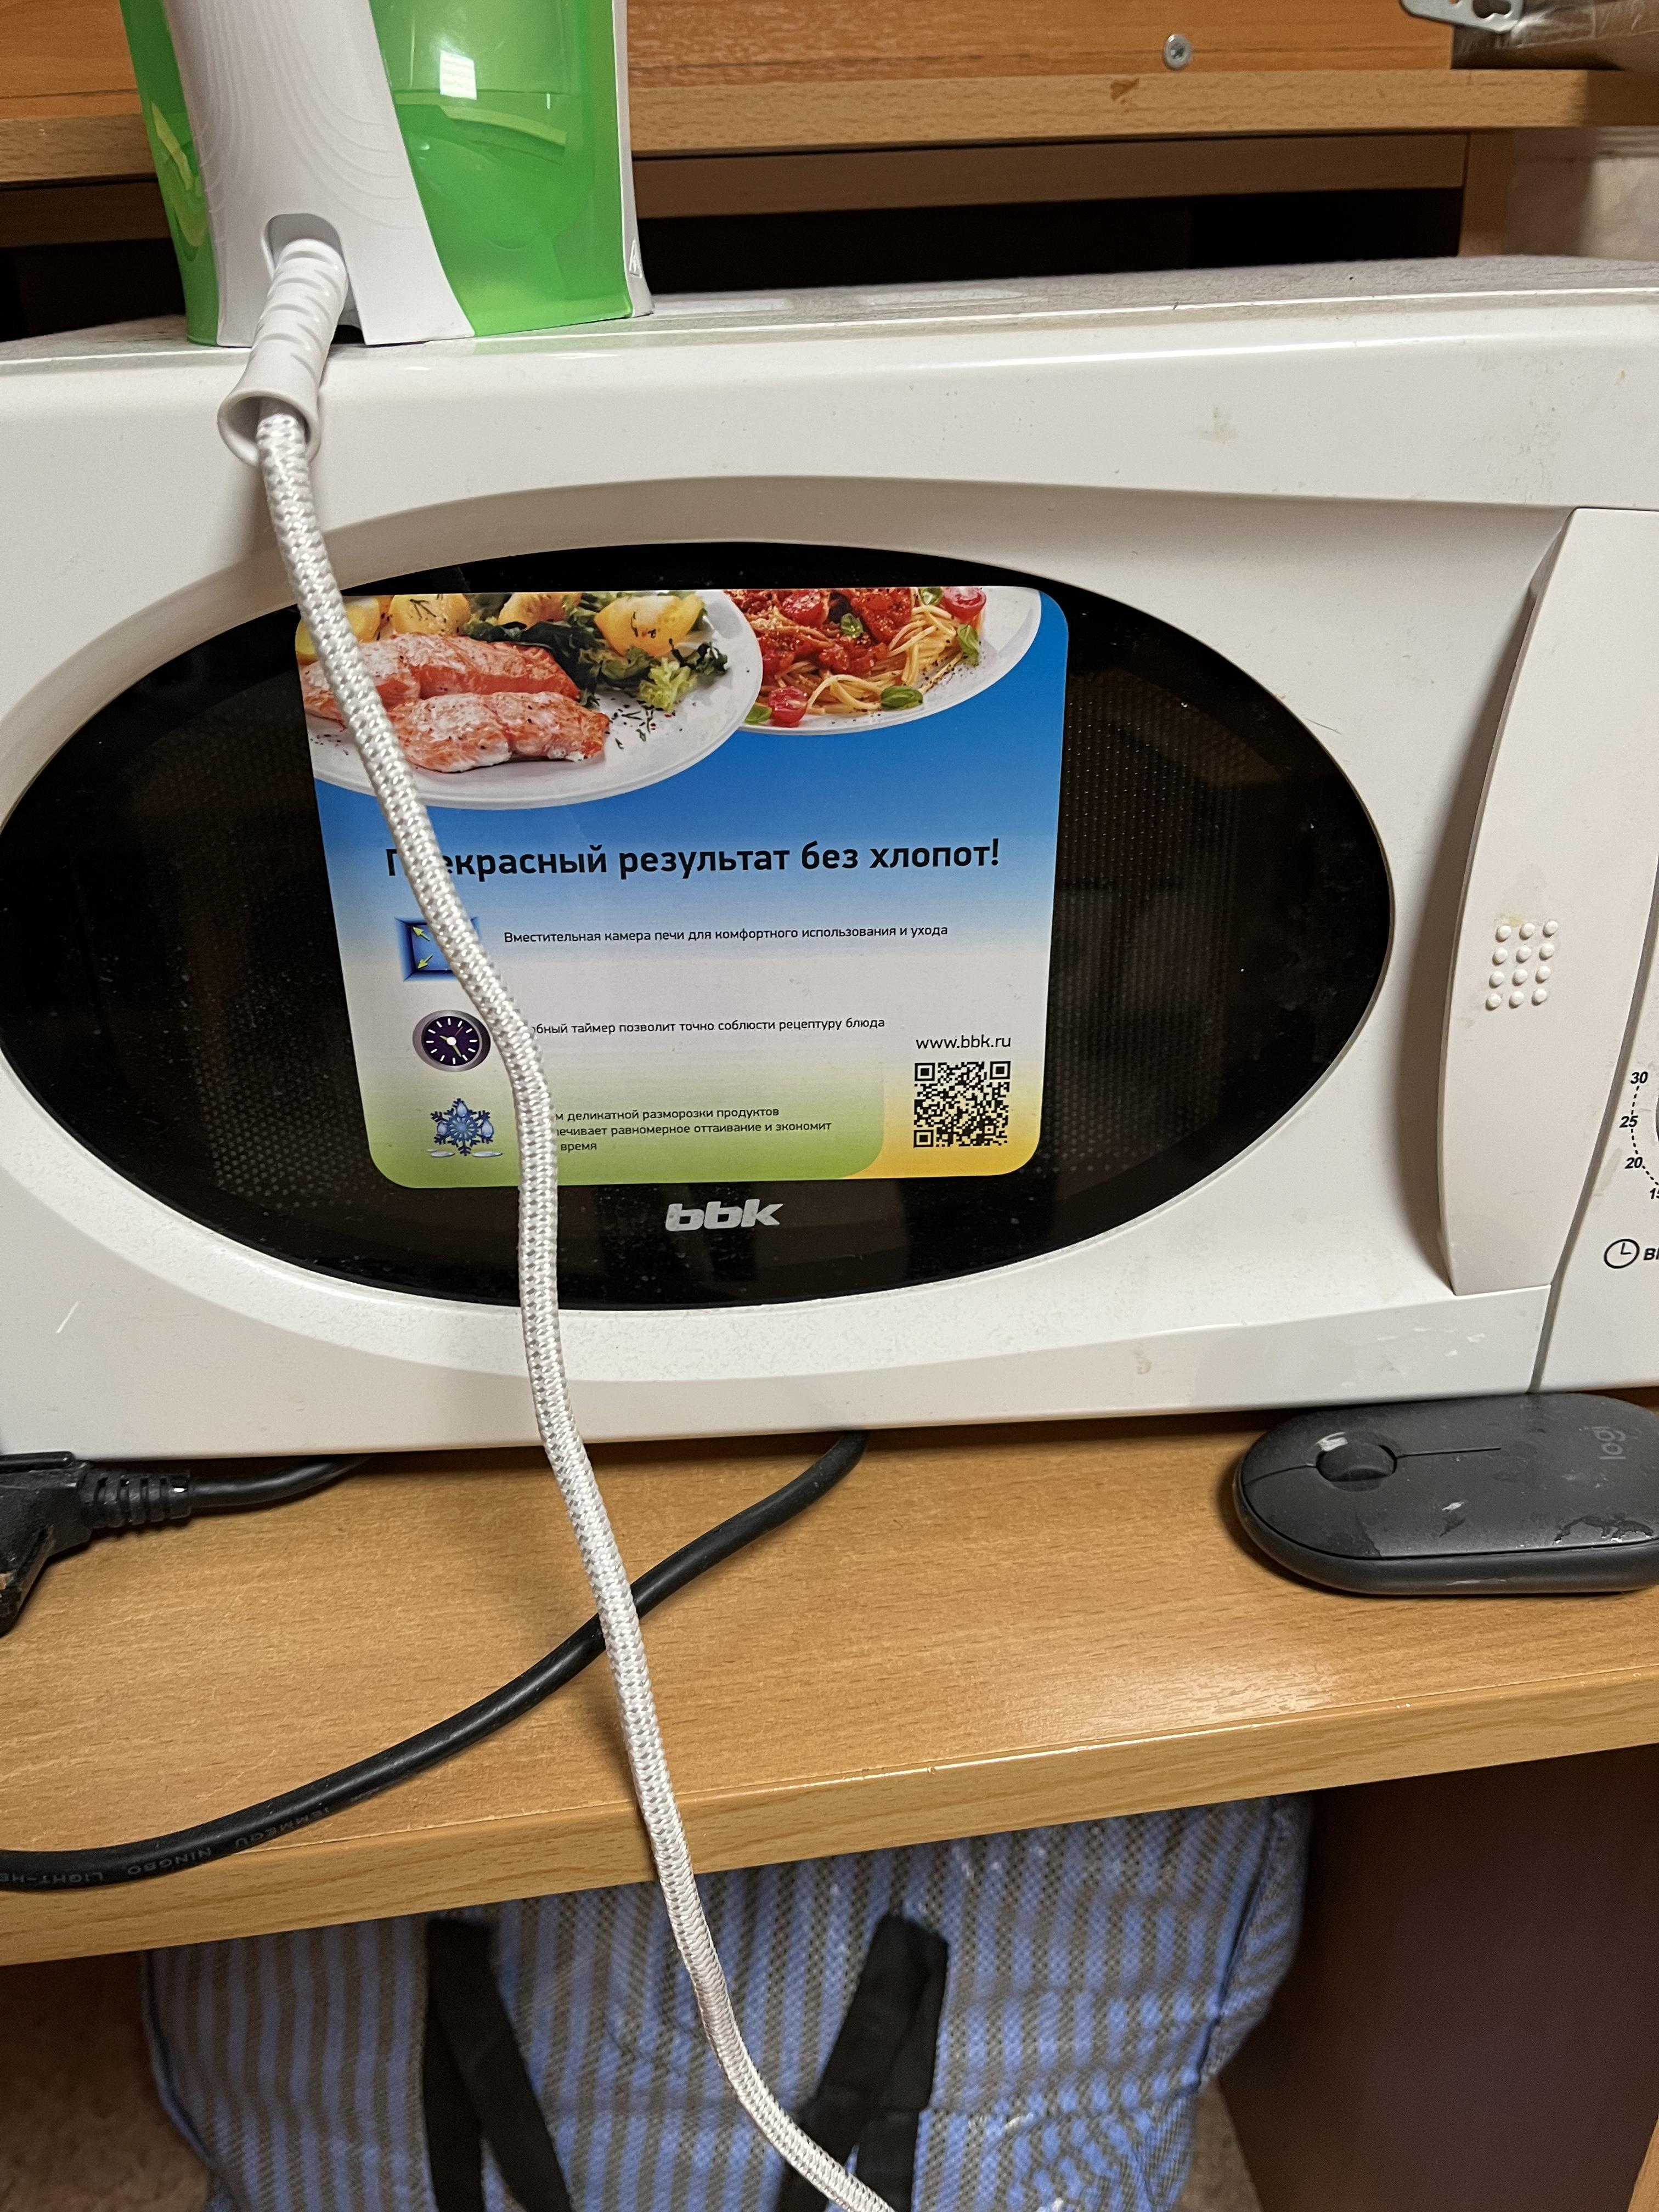qrcode: (915, 1061, 1012, 1148)
